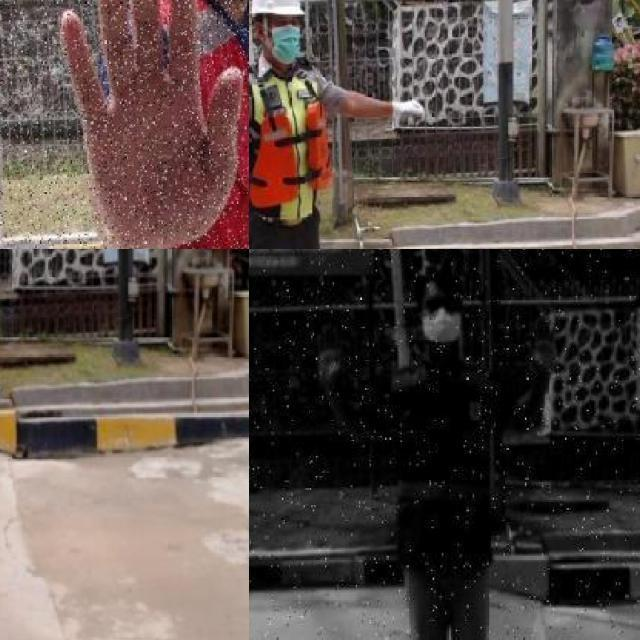apron: (386, 92, 428, 125)
